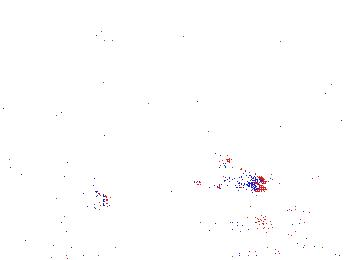flame jellyfish: (272, 174, 346, 229), (189, 146, 264, 193), (46, 160, 110, 208)
